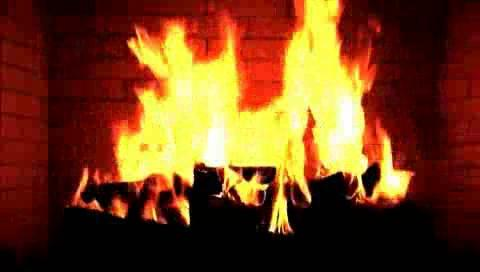fire: (67, 41, 480, 238)
